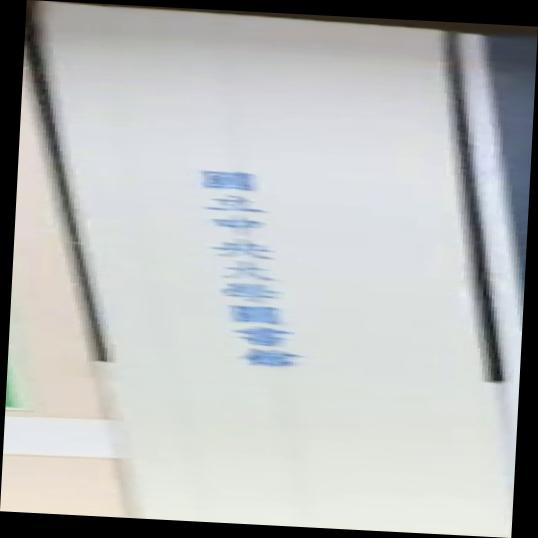backward: (1, 1, 536, 538)
